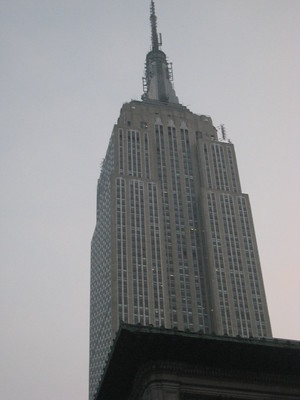medium: (84, 94, 276, 400)
